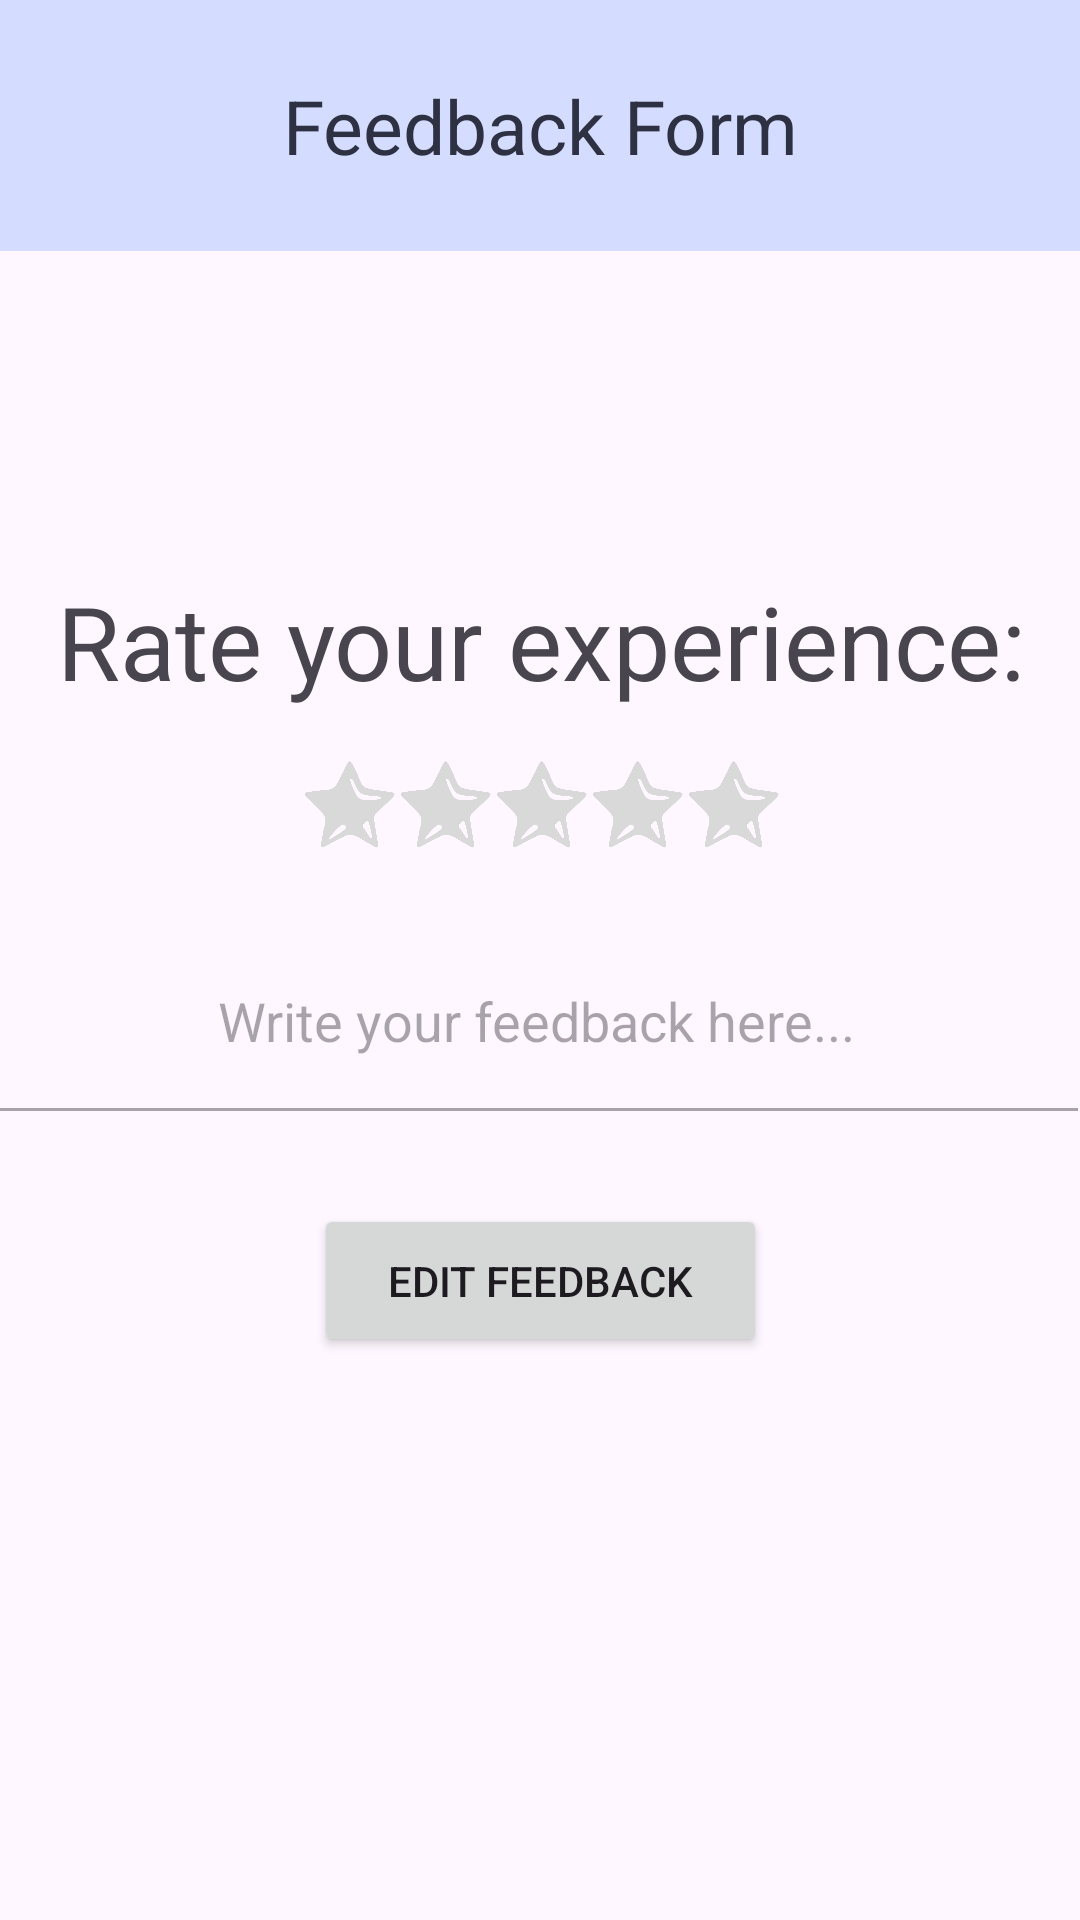

Screen size 1080 × 1920. Icon name, then its center in pixels as point (x, y):
Star 1: point (349, 804)
Star 2: point (445, 804)
Star 3: point (541, 804)
Star 4: point (637, 804)
Star 5: point (733, 804)
